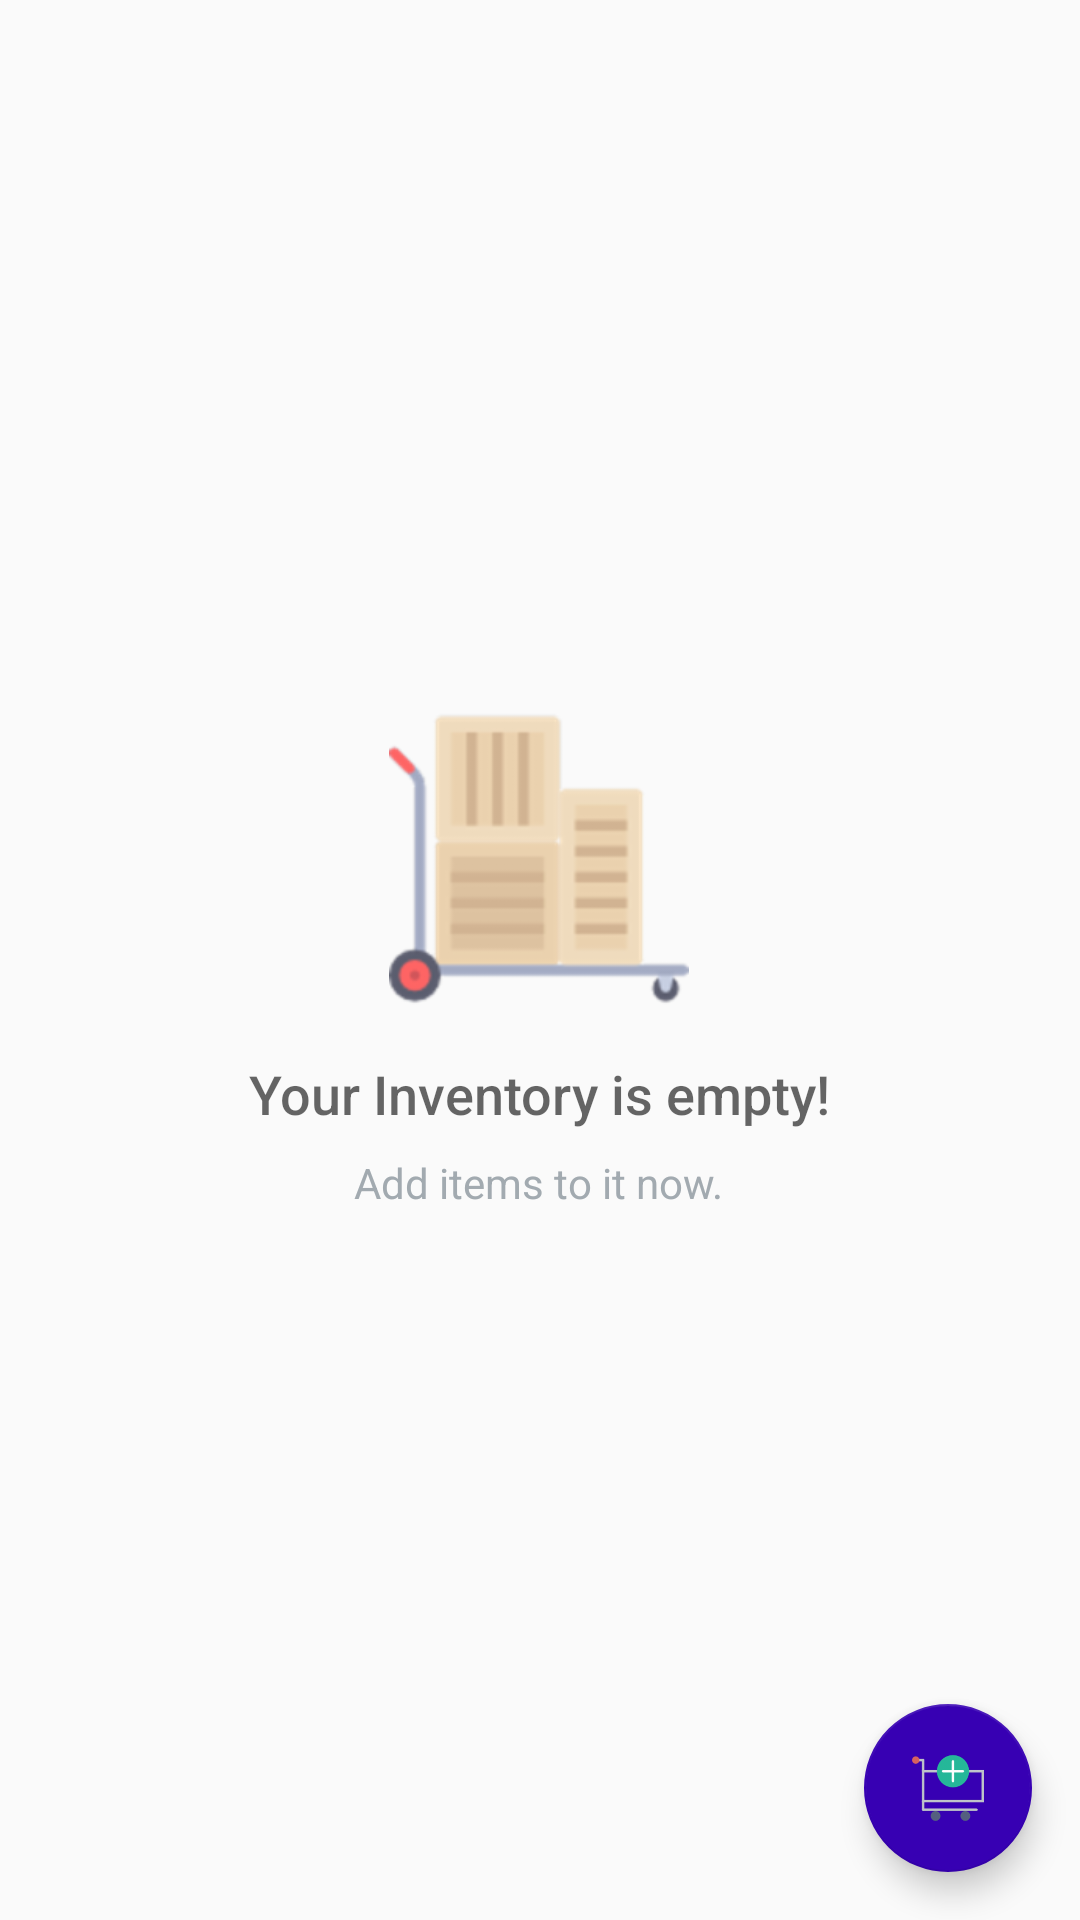

Icons on this 1080 x 1920 Android screen, each with the point to tap as (x,y):
cart: (948,1788)
packing: (539,859)
